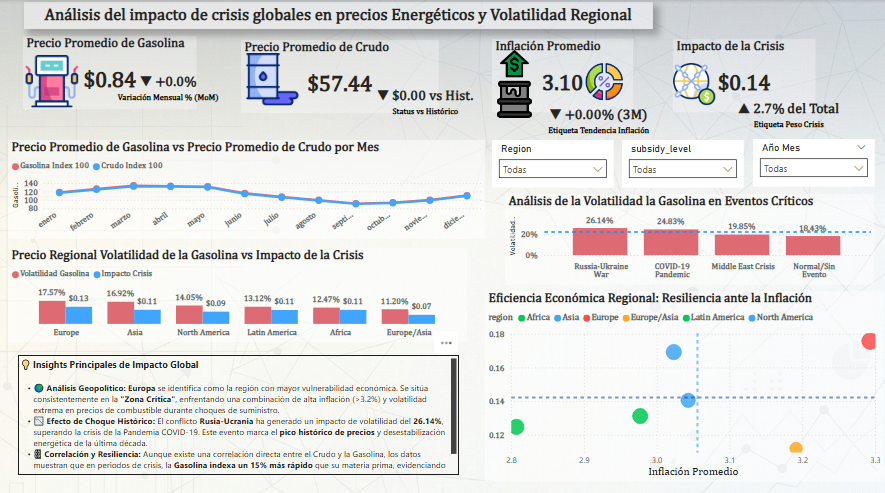

Layout of this report page (visuals, bound fields, positions):
{"tool":"powerbi","page":{"name":"Monitor de Crisis Global","canvas":[1280,720],"ordinal":0},"visuals":[{"type":"card","title":"Precio Promedio de Gasolina ","fields":{"Values":["_Medidas.Precio Promedio de Gasolina"]},"box":[34.3,52.9,251.4,105.7],"z":0},{"type":"image","box":[27.1,81.4,98.6,75.7],"z":1000},{"type":"card","title":"Precio Promedio de Crudo","fields":{"Values":["_Medidas.Precio Promedio de Crudo"]},"box":[350,58.6,285.7,105.7],"z":2000},{"type":"image","box":[354.3,78.6,81.4,75.7],"z":3000},{"type":"card","title":"Inflación Promedio","fields":{"Values":["_Medidas.Inflación Promedio"]},"box":[712.9,57.1,204.3,105.7],"z":4000},{"type":"image","box":[675.7,72.9,140,101.4],"z":5000},{"type":"card","title":"Impacto de la Crisis","fields":{"Values":["_Medidas.Impacto Crisis"]},"box":[974.3,57.1,205.7,105.7],"z":6000},{"type":"image","box":[958.6,92.9,92.9,61.4],"z":7000},{"type":"lineChart","title":"Precio Promedio de Gasolina vs Precio Promedio de Crudo por Mes","fields":{"Category":["dim_calendar.Date.Variación.Jerarquía de fechas.Mes"],"Y":["_Medidas.Gasolina Index 100","_Medidas.Crudo Index 100"]},"box":[12.9,204.3,690,142.9],"z":8000},{"type":"clusteredColumnChart","title":"Análisis de la Volatilidad la Gasolina en Eventos Críticos","fields":{"Category":["dim_events.event_name"],"Y":["_Medidas.Volatilidad Gasolina"]},"box":[731.4,281.4,534.3,131.4],"z":9000},{"type":"image","box":[837.1,92.9,75.7,54.3],"z":10000},{"type":"clusteredColumnChart","title":"Precio Regional Volatilidad de la Gasolina vs Impacto de la Crisis","fields":{"Category":["dim_geography.region"],"Y":["_Medidas.Volatilidad Gasolina","_Medidas.Impacto Crisis"]},"box":[12.9,360,664.3,135.7],"z":11000},{"type":"slicer","fields":{"Values":["dim_geography.region"]},"box":[712.9,204.3,175.7,68.6],"z":12000},{"type":"slicer","fields":{"Values":["dim_subsidy_status.subsidy_level"]},"box":[901.4,204.3,175.7,68.6],"z":13000},{"type":"scatterChart","title":"Eficiencia Económica Regional: Resiliencia ante la Inflación","fields":{"X":["_Medidas.Inflación Promedio"],"Y":["_Medidas.Volatilidad Gasolina"],"Size":["_Medidas.Impacto Crisis"],"Series":["dim_geography.region"]},"box":[702.9,422.9,577.1,275.7],"z":14000},{"type":"textbox","box":[35.7,4.3,908.6,38.6],"z":15000},{"type":"slicer","fields":{"Values":["dim_calendar.Año Mes"]},"box":[1090,202.9,175.7,68.6],"z":16000},{"type":"card","title":"Precio Promedio de Gasolina ","fields":{"Values":["_Medidas.Status vs Histórico"]},"box":[542.9,118.6,148.6,55.7],"z":17000},{"type":"card","title":"Precio Promedio de Gasolina ","fields":{"Values":["_Medidas.Etiqueta Tendencia Inflación"]},"box":[774.3,145.7,184.3,55.7],"z":18000},{"type":"card","title":"Precio Promedio de Gasolina ","fields":{"Values":["_Medidas.Etiqueta Peso Crisis"]},"box":[1050,137.1,184.3,55.7],"z":19000},{"type":"card","title":"Precio Promedio de Gasolina ","fields":{"Values":["_Medidas.Variación Mensual % (MoM)"]},"box":[160,98.6,168.6,55.7],"z":20001},{"type":"textbox","box":[27.1,514.3,638.6,174.3],"z":20002}]}

Visuals, with their boxes in screenshot pixels (x1, y1, x2, y2), scaled from the page's 1280x720 canvas onto the 885x493 screenshot:
"Precio Promedio de Gasolina " card: locate(24, 36, 198, 109)
image: locate(19, 56, 87, 108)
"Precio Promedio de Crudo" card: locate(242, 40, 440, 112)
image: locate(245, 54, 301, 106)
"Inflación Promedio" card: locate(493, 39, 634, 111)
image: locate(467, 50, 564, 119)
"Impacto de la Crisis" card: locate(674, 39, 816, 111)
image: locate(663, 64, 727, 106)
"Precio Promedio de Gasolina vs Precio Promedio de Crudo por Mes" lineChart: locate(9, 140, 486, 238)
"Análisis de la Volatilidad la Gasolina en Eventos Críticos" clusteredColumnChart: locate(506, 193, 875, 283)
image: locate(579, 64, 631, 101)
"Precio Regional Volatilidad de la Gasolina vs Impacto de la Crisis" clusteredColumnChart: locate(9, 246, 468, 339)
slicer - dim_geography.region: locate(493, 140, 614, 187)
slicer - dim_subsidy_status.subsidy_level: locate(623, 140, 745, 187)
"Eficiencia Económica Regional: Resiliencia ante la Inflación" scatterChart: locate(486, 290, 884, 478)
textbox: locate(25, 3, 653, 29)
slicer - dim_calendar.Año Mes: locate(754, 139, 875, 186)
"Precio Promedio de Gasolina " card: locate(375, 81, 478, 119)
"Precio Promedio de Gasolina " card: locate(535, 100, 663, 138)
"Precio Promedio de Gasolina " card: locate(726, 94, 853, 132)
"Precio Promedio de Gasolina " card: locate(111, 68, 227, 106)
textbox: locate(19, 352, 460, 471)
